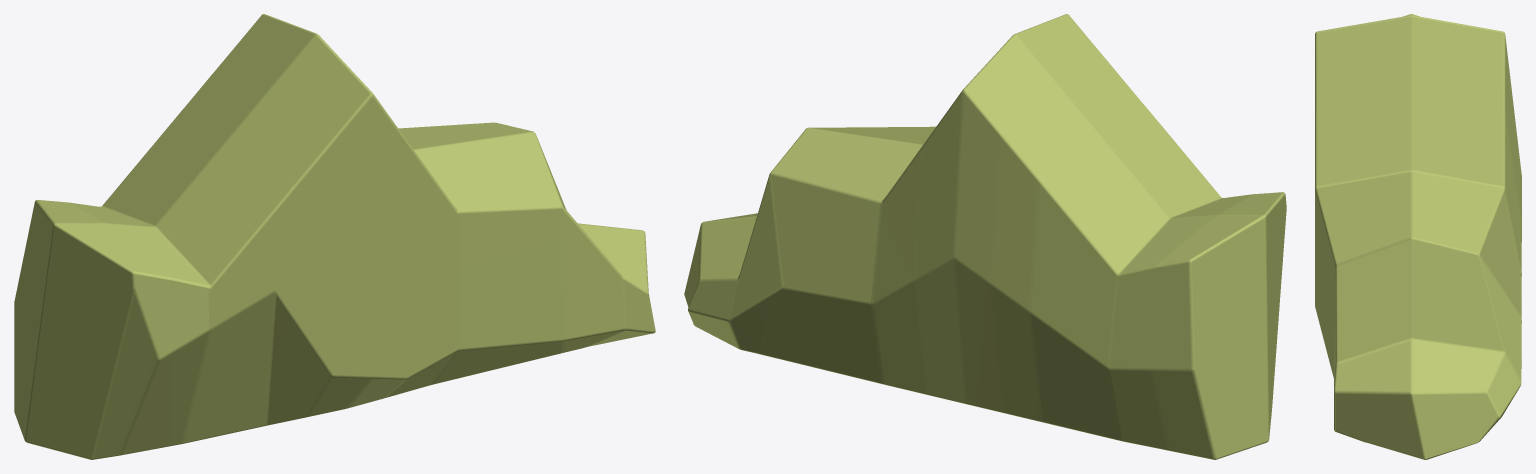
File: Bush1.fbx
The picture shows the model from 3 angles, left to right: view 1: azimuth 30°, elevation 25°; view 2: azimuth 150°, elevation 25°; view 3: azimuth 270°, elevation 25°; orthographic projection. The views are drawn at different scales.
Parts seen in each view (by area): view 1: Bush1; view 2: Bush1; view 3: Bush1.
Boxes of the visible parts, x1,y1,x2,y2 form: Bush1: (14,14,655,459); Bush1: (684,14,1286,459); Bush1: (1315,14,1521,459).
Size of the model in its own units: 2.18 by 1.2 by 0.7338.
